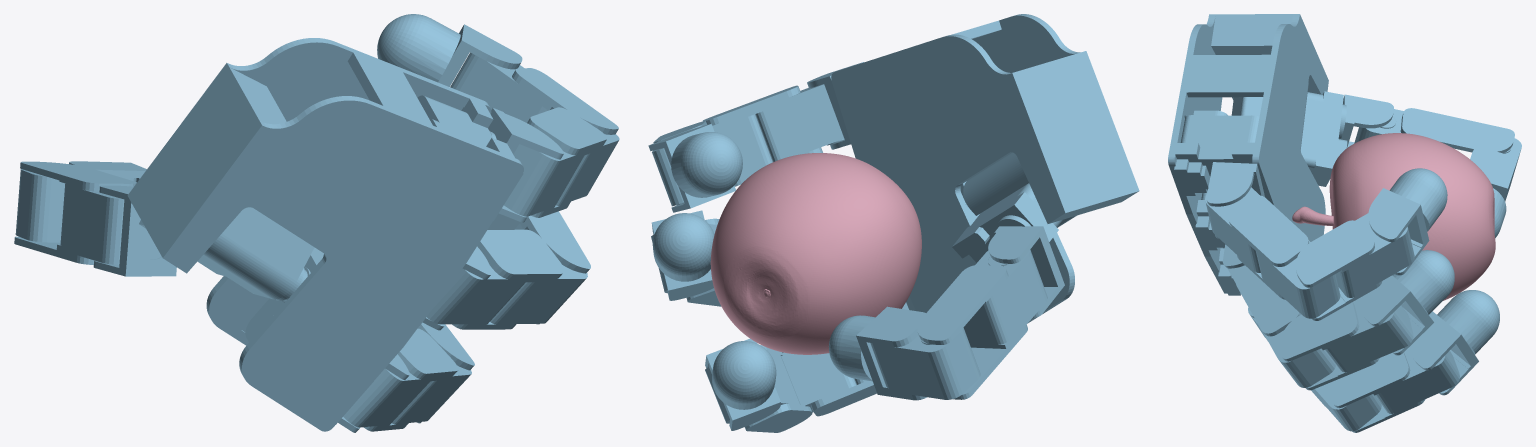
3 renders of one model, left to right at view 1: azimuth 30°, elevation 25°; view 2: azimuth 150°, elevation 25°; view 3: azimuth 270°, elevation 25°, orthographic. The views are drawn at different scales.
Visible parts, largest first — view 1: world; view 2: world; view 3: world.
Part boxes in pixels (x1,y1,x2,y2): world: (14, 14, 619, 432); world: (648, 14, 1139, 432); world: (1168, 14, 1521, 432).
Size of the model in its own units: 0.19 by 0.1653 by 0.1536.
